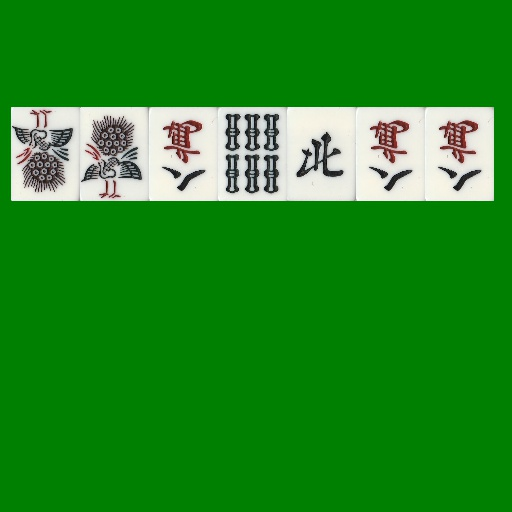1s: (11, 107, 80, 201), (80, 107, 149, 201)
6s: (218, 107, 287, 201)
8m: (149, 107, 218, 201), (356, 107, 425, 201), (425, 107, 494, 201)
north: (287, 107, 356, 201)
